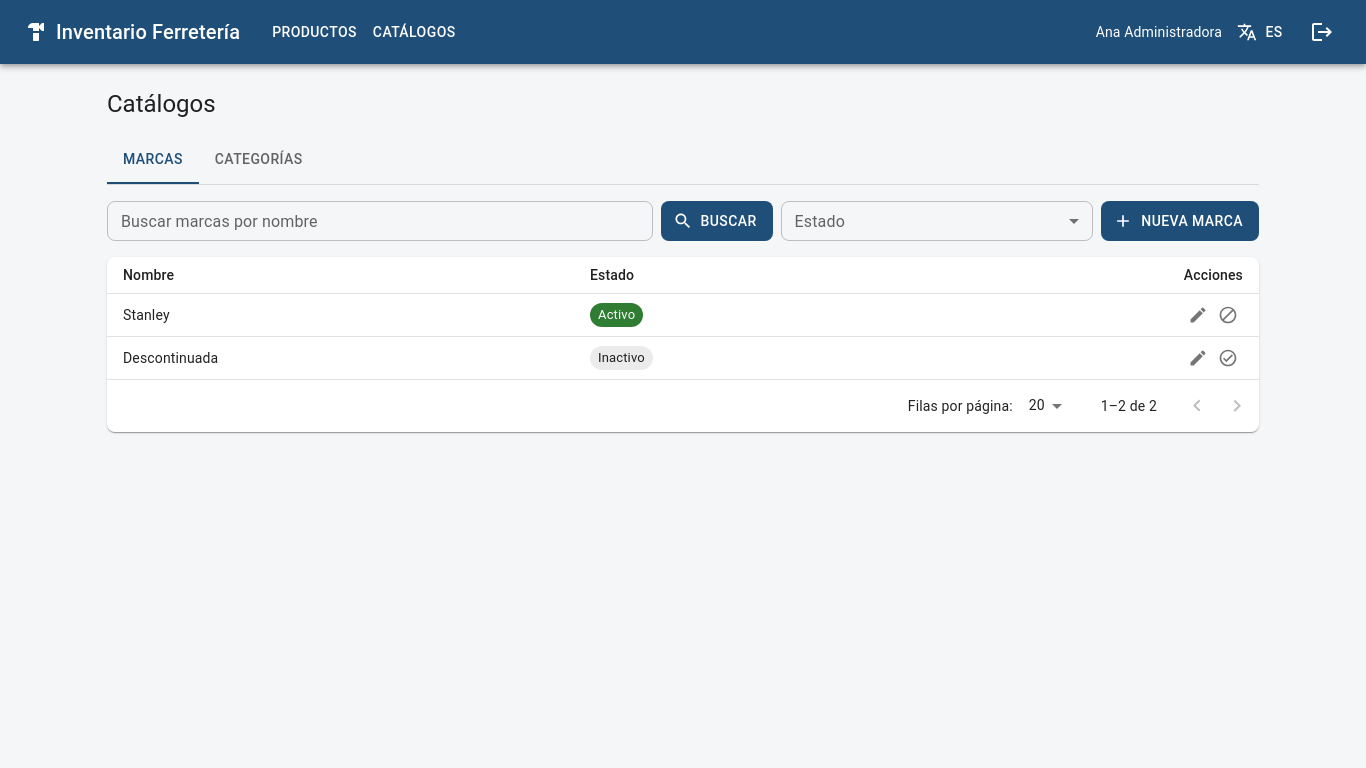
Test: CatalogosPage › [CA-RF-CFG-001-3] confirmar la desactivación la envía como INACTIVO y notifica
Click the button with test id "catalogo-marca-desactivar-1" at {"x": 1228, "y": 315}, box [1213, 300, 1243, 330]
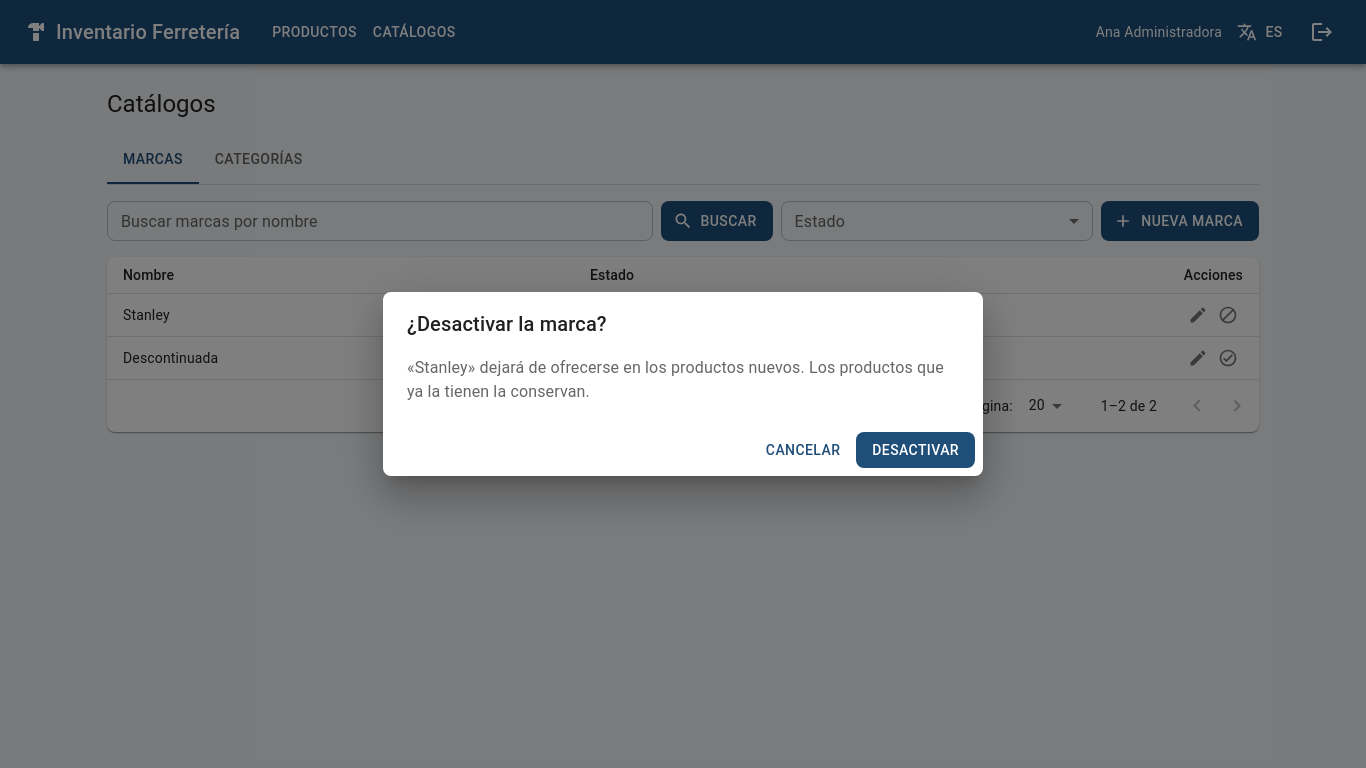
Click the button with test id "catalogo-marca-estado-confirmacion-aceptar" at {"x": 916, "y": 450}, box [856, 432, 975, 468]
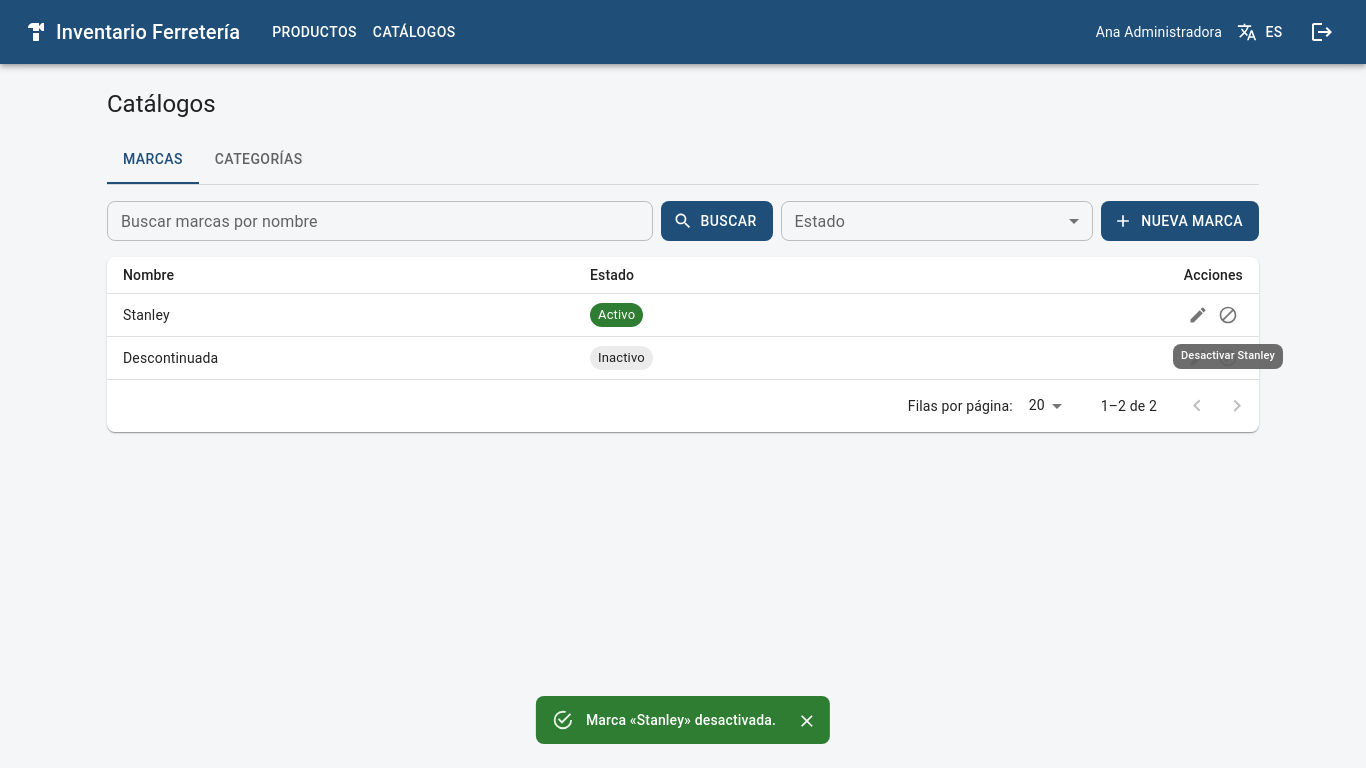
Now the text "Marca «Stanley» desactivada." is shown, box [586, 712, 776, 728]
